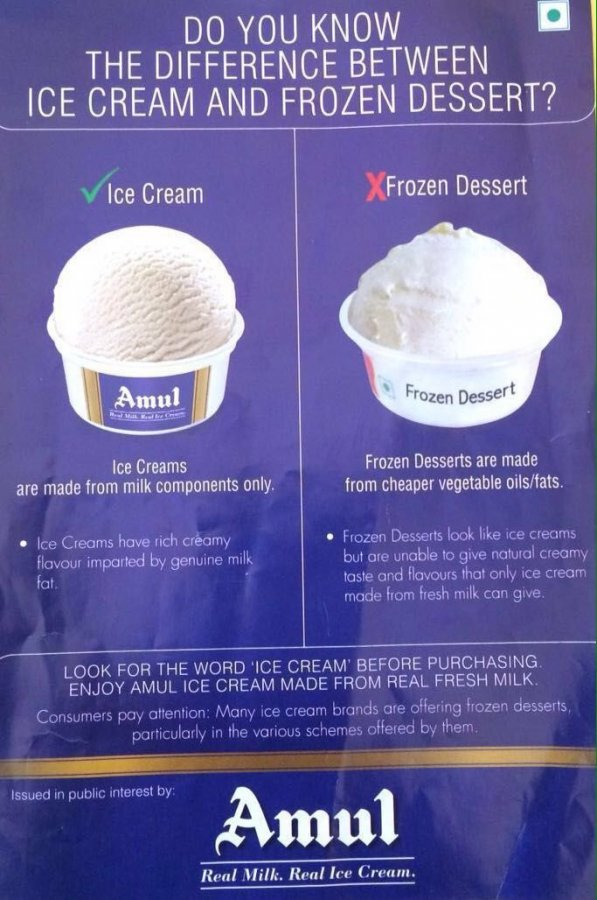VEG: (531, 1, 572, 30)
